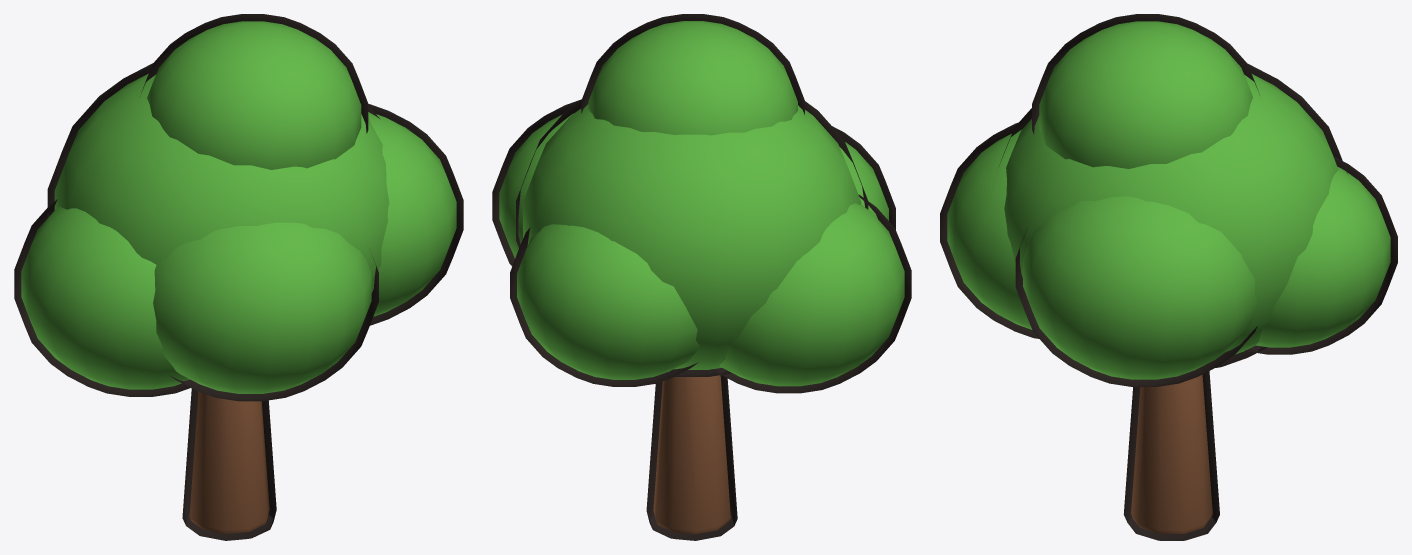
File: Tree_Round.fbx
3 renders of one model, left to right at view 1: azimuth 30°, elevation 25°; view 2: azimuth 150°, elevation 25°; view 3: azimuth 270°, elevation 25°, orthographic. The views are drawn at different scales.
Visible parts, largest first — view 1: PR_Tree_Round_Leaf1, PR_Tree_Round_Outline, PR_Tree_Round_Trunk; view 2: PR_Tree_Round_Leaf1, PR_Tree_Round_Outline, PR_Tree_Round_Trunk; view 3: PR_Tree_Round_Leaf1, PR_Tree_Round_Outline, PR_Tree_Round_Trunk.
Boxes of the visible parts, left/top/right/bottom form: PR_Tree_Round_Leaf1: left=21, top=21, right=456, bottom=393; PR_Tree_Round_Outline: left=14, top=14, right=463, bottom=540; PR_Tree_Round_Trunk: left=189, top=391, right=269, bottom=533; PR_Tree_Round_Leaf1: left=499, top=21, right=904, bottom=386; PR_Tree_Round_Outline: left=492, top=14, right=911, bottom=540; PR_Tree_Round_Trunk: left=653, top=375, right=730, bottom=534; PR_Tree_Round_Leaf1: left=947, top=21, right=1390, bottom=379; PR_Tree_Round_Outline: left=940, top=14, right=1397, bottom=540; PR_Tree_Round_Trunk: left=1131, top=374, right=1212, bottom=533.
Bounding box in the file's own units: 3.83 × 4.59 × 3.76.
